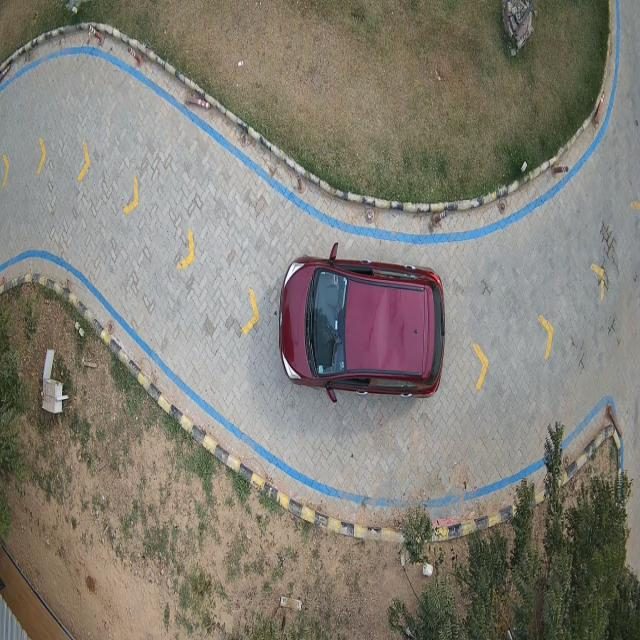car: (280, 247, 445, 402)
